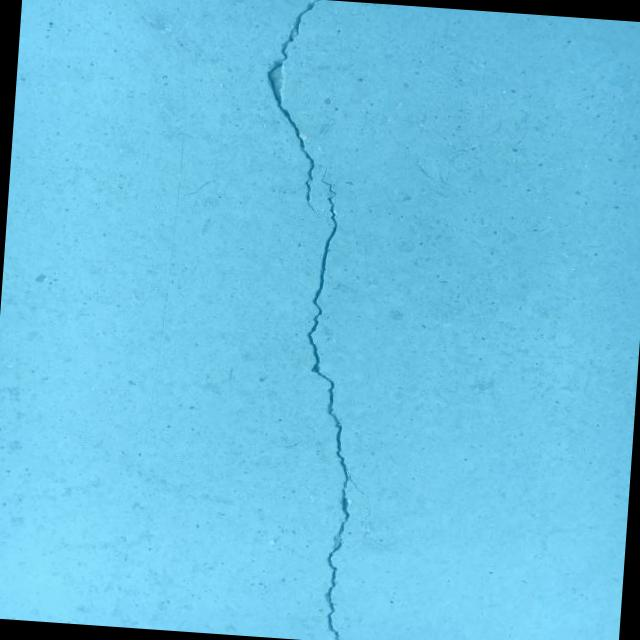crack: (227, 0, 406, 640)
